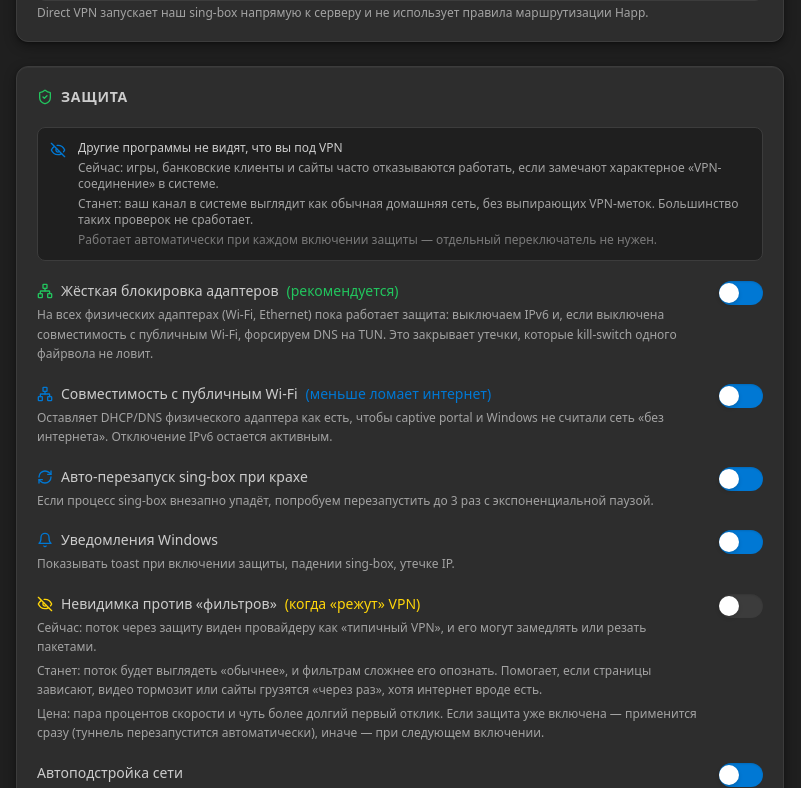
Test: <Settings/> save bar › persists on Save and then hides
(page scrolled)
Click the switch in the row of "(меньше ломает интернет)".
click(741, 396)  # box left=719, top=384, right=763, bottom=408
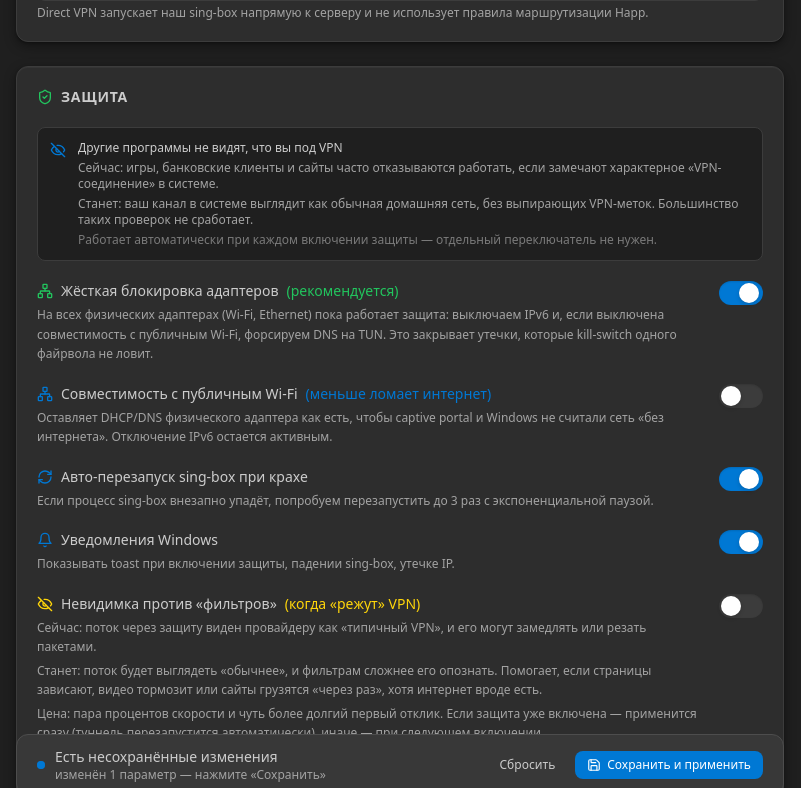
expect the text "Есть несохранённые изменения" is shown: met, box left=55, top=747, right=278, bottom=766
Click the button "Сохранить и применить".
click(669, 765)  # box left=575, top=751, right=763, bottom=779
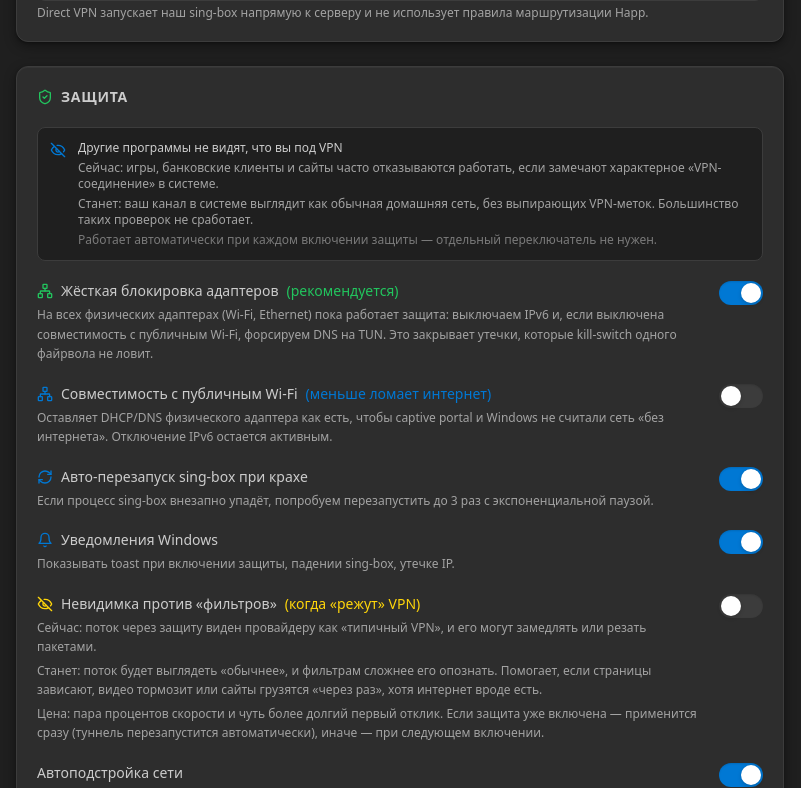
expect the text "Есть несохранённые изменения" is gone: met
